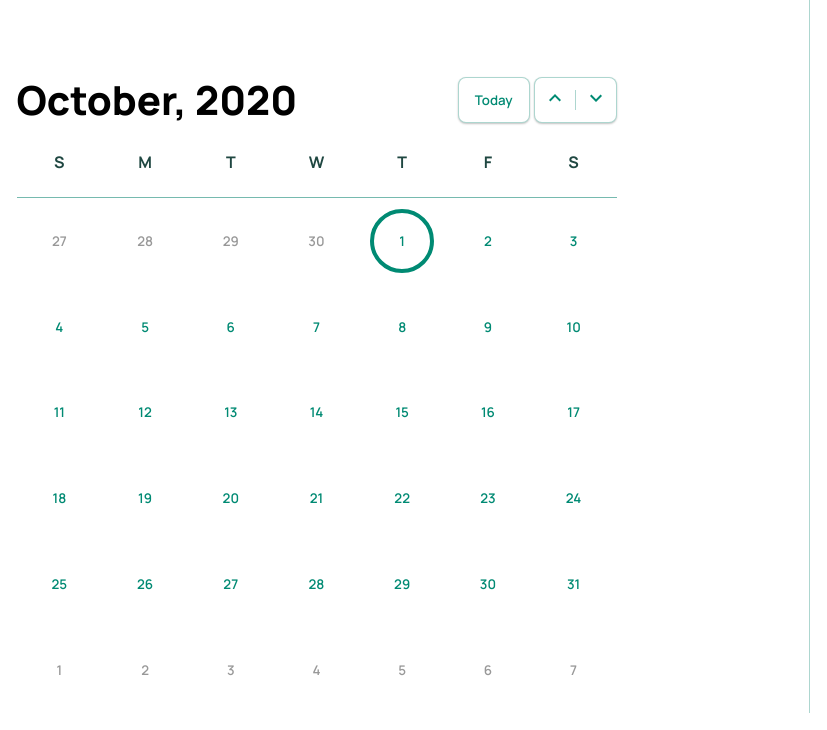
should be able to go to previous month
This screenshot has width=827, height=730.
Click the 1st button "Previous Month" at (554, 100), box [534, 78, 574, 122]
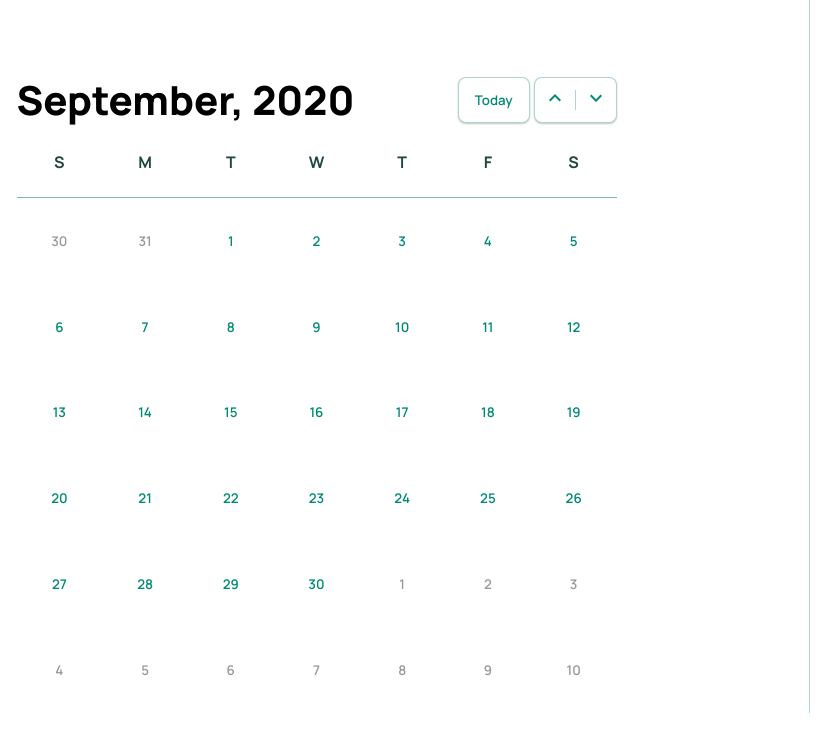
expect the heading "September, 2020" is shown: met, box [16, 72, 354, 127]
